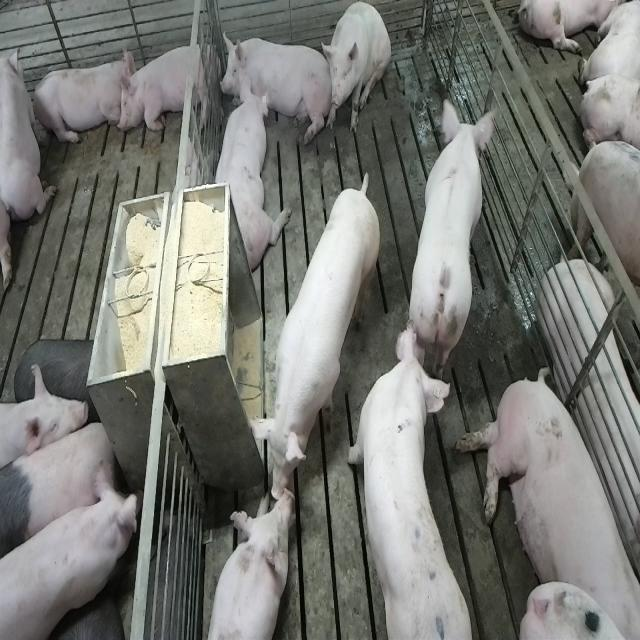Lateral_lying: (454, 363, 636, 635), (538, 259, 640, 576)
Sitting: (322, 4, 391, 140)
Standing: (248, 177, 382, 493), (344, 314, 472, 636), (406, 103, 492, 381), (2, 470, 142, 640), (2, 417, 122, 569), (566, 142, 640, 358)
Sternal_lying: (210, 84, 284, 274), (206, 490, 294, 640), (220, 27, 328, 138), (2, 36, 56, 225), (119, 38, 215, 138), (31, 53, 131, 148)
